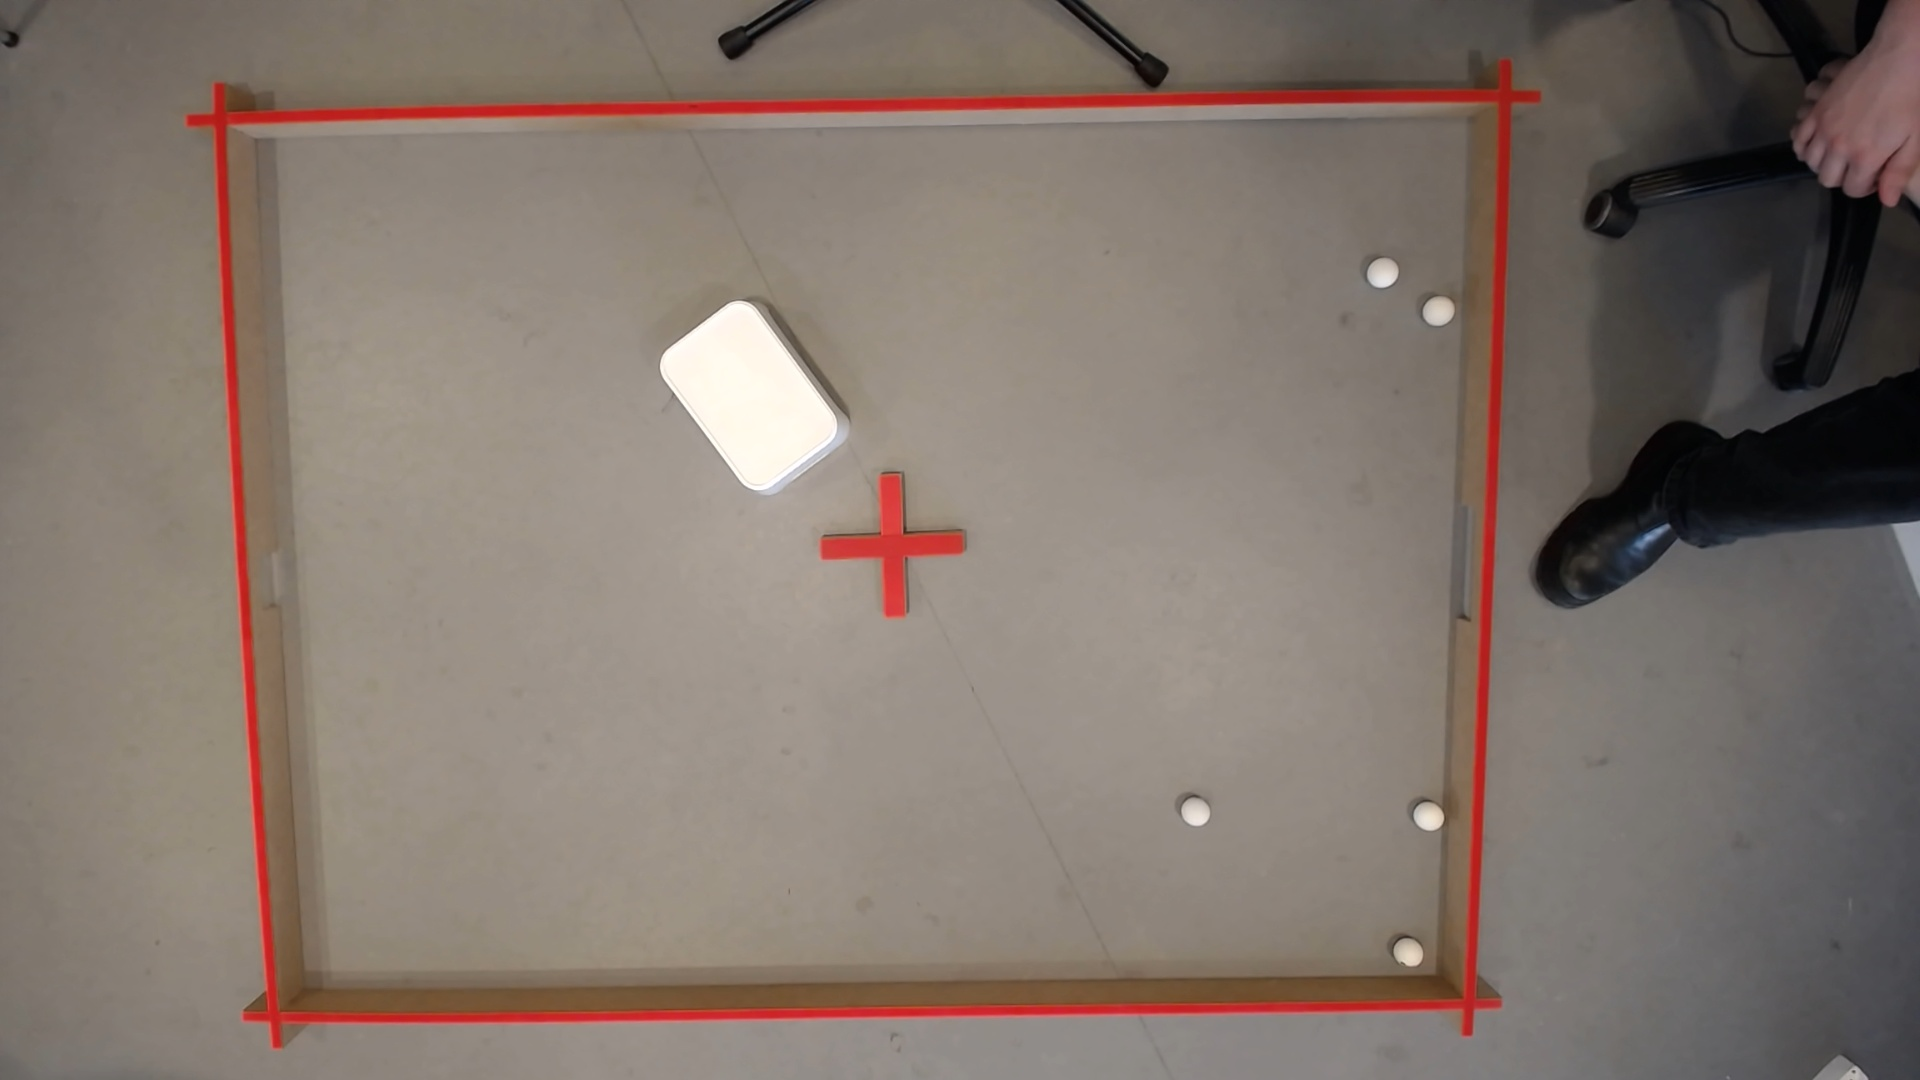balls: (649, 290, 852, 505), (1411, 802, 1445, 835), (1365, 258, 1399, 291), (1424, 297, 1452, 327), (1183, 804, 1209, 825)
car: (1395, 940, 1424, 969)
